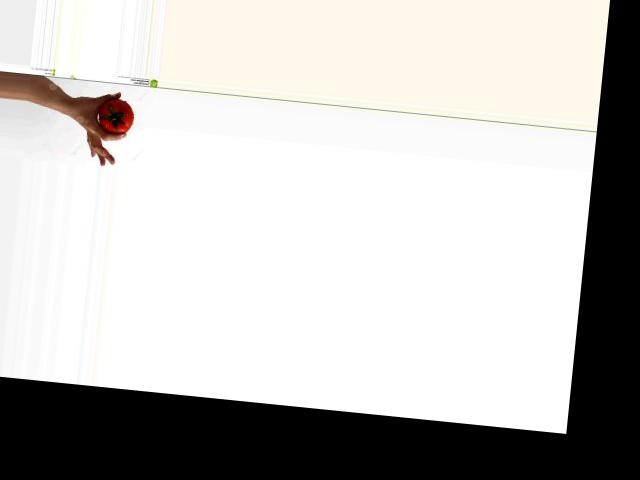tomato: (96, 97, 135, 135)
